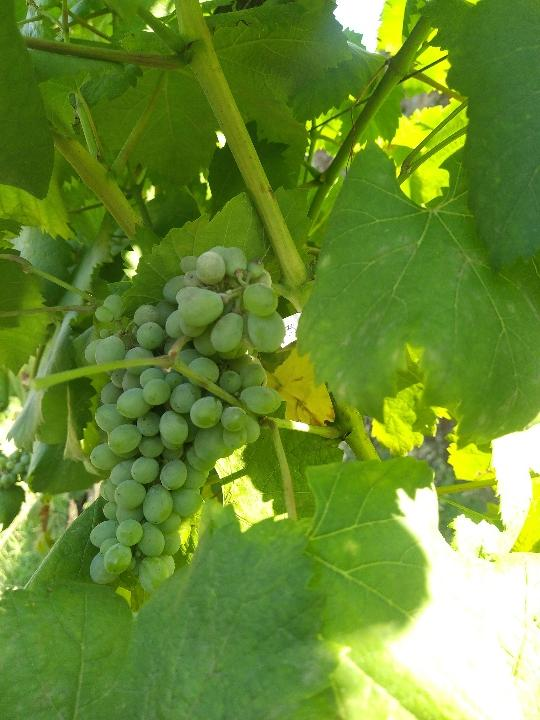grape: (83, 249, 286, 588)
